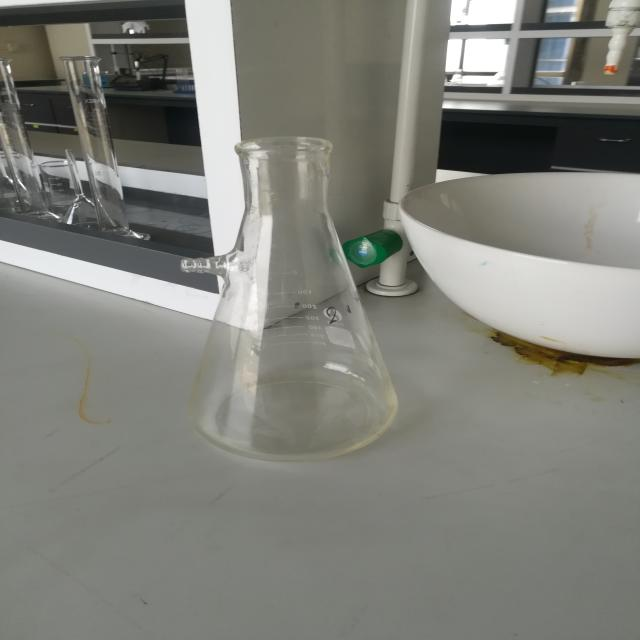Conical_Flask: (127, 118, 435, 482)
